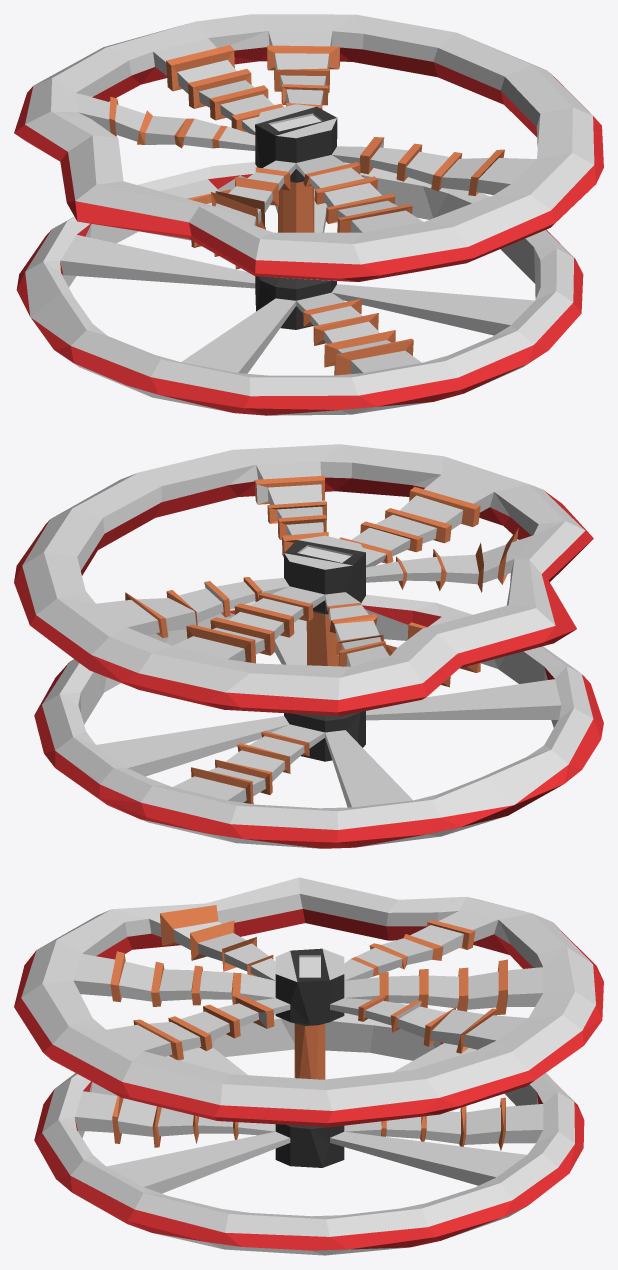
The picture shows the model from 3 angles, top to bottom: view 1: azimuth 30°, elevation 25°; view 2: azimuth 150°, elevation 25°; view 3: azimuth 270°, elevation 25°; orthographic projection. The views are drawn at different scales.
Visible parts, largest first — view 1: Torus.000; view 2: Torus.000; view 3: Torus.000.
Part boxes in pixels (bbox=[...]): Torus.000: bbox=[14, 14, 603, 415]; Torus.000: bbox=[14, 444, 603, 848]; Torus.000: bbox=[14, 877, 603, 1255].
Size of the model in its own units: 1011 by 364 by 1043.
